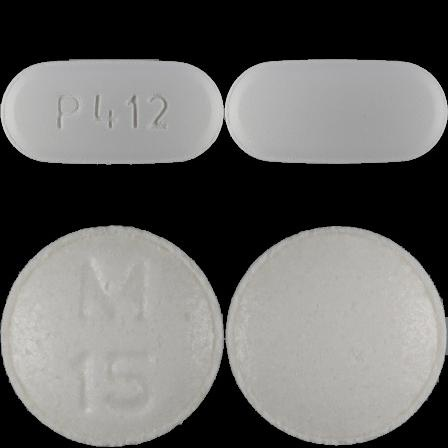69189-0413: (0, 0, 224, 224)
